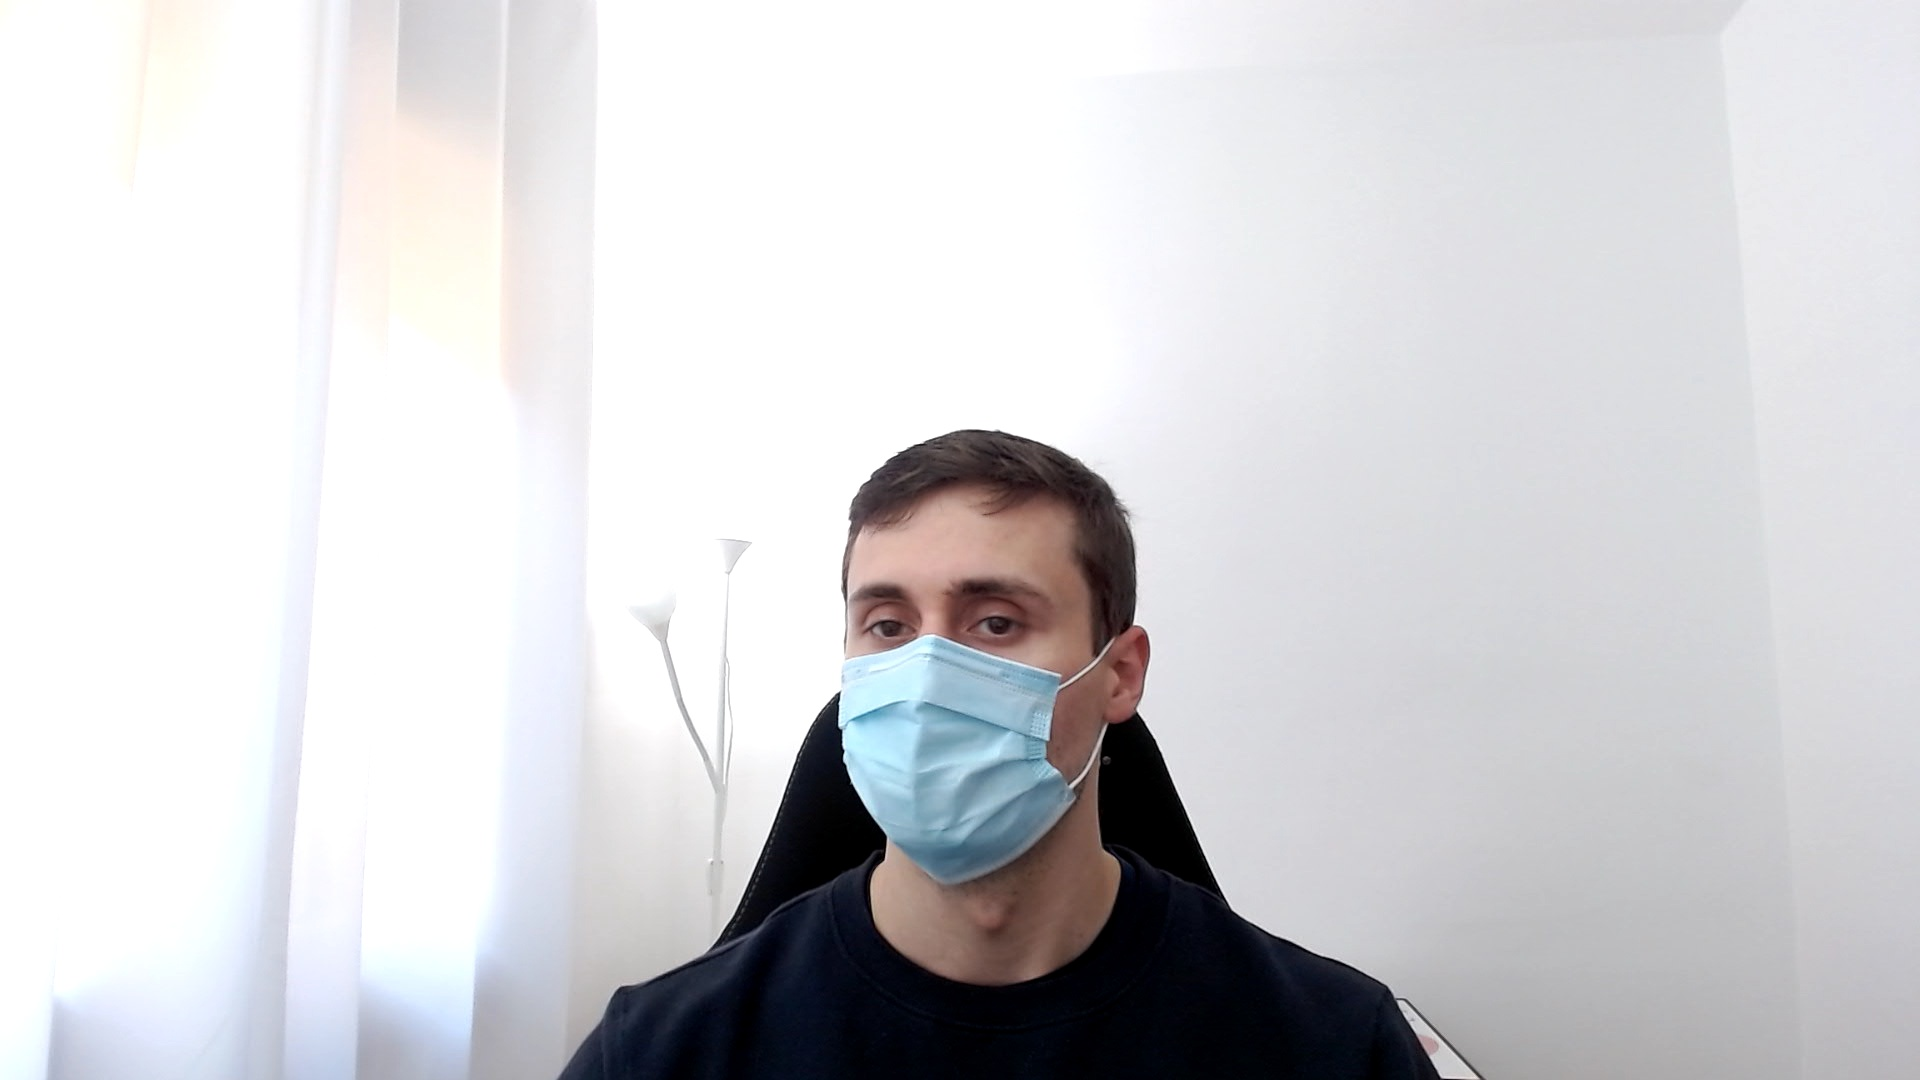Mask: (837, 429, 1149, 887)
